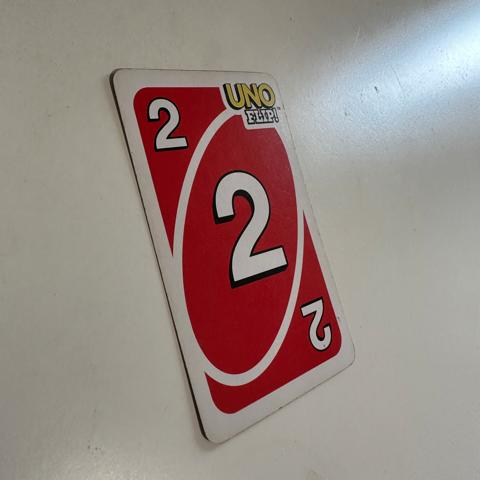8_red: (209, 164, 291, 288), (146, 97, 194, 154), (299, 296, 336, 355)
